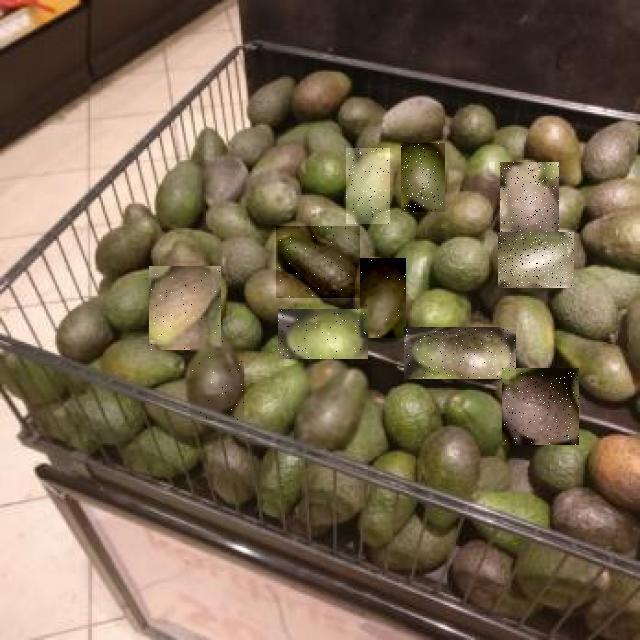Avocado: (294, 364, 372, 449), (276, 226, 360, 298), (149, 266, 221, 350), (502, 368, 579, 445), (404, 327, 516, 379), (500, 162, 559, 239), (278, 309, 368, 359), (190, 338, 244, 420), (498, 232, 574, 288), (361, 258, 407, 338), (346, 149, 390, 225), (401, 144, 445, 214)
